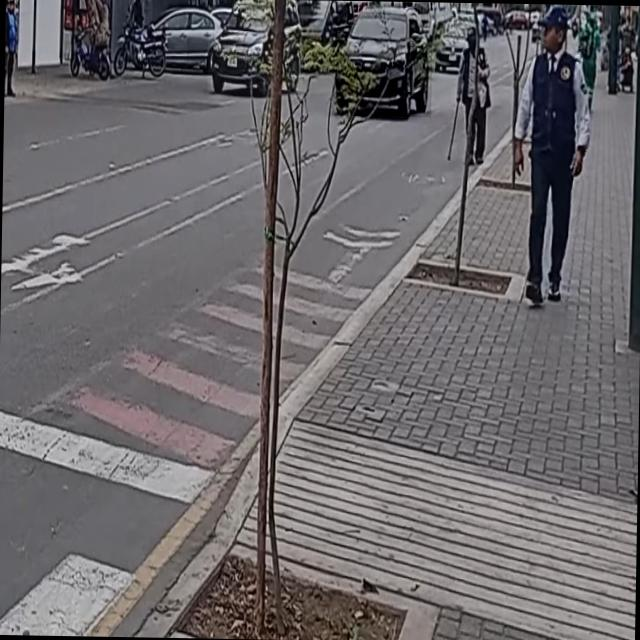car: (332, 1, 432, 117), (207, 0, 303, 99)
